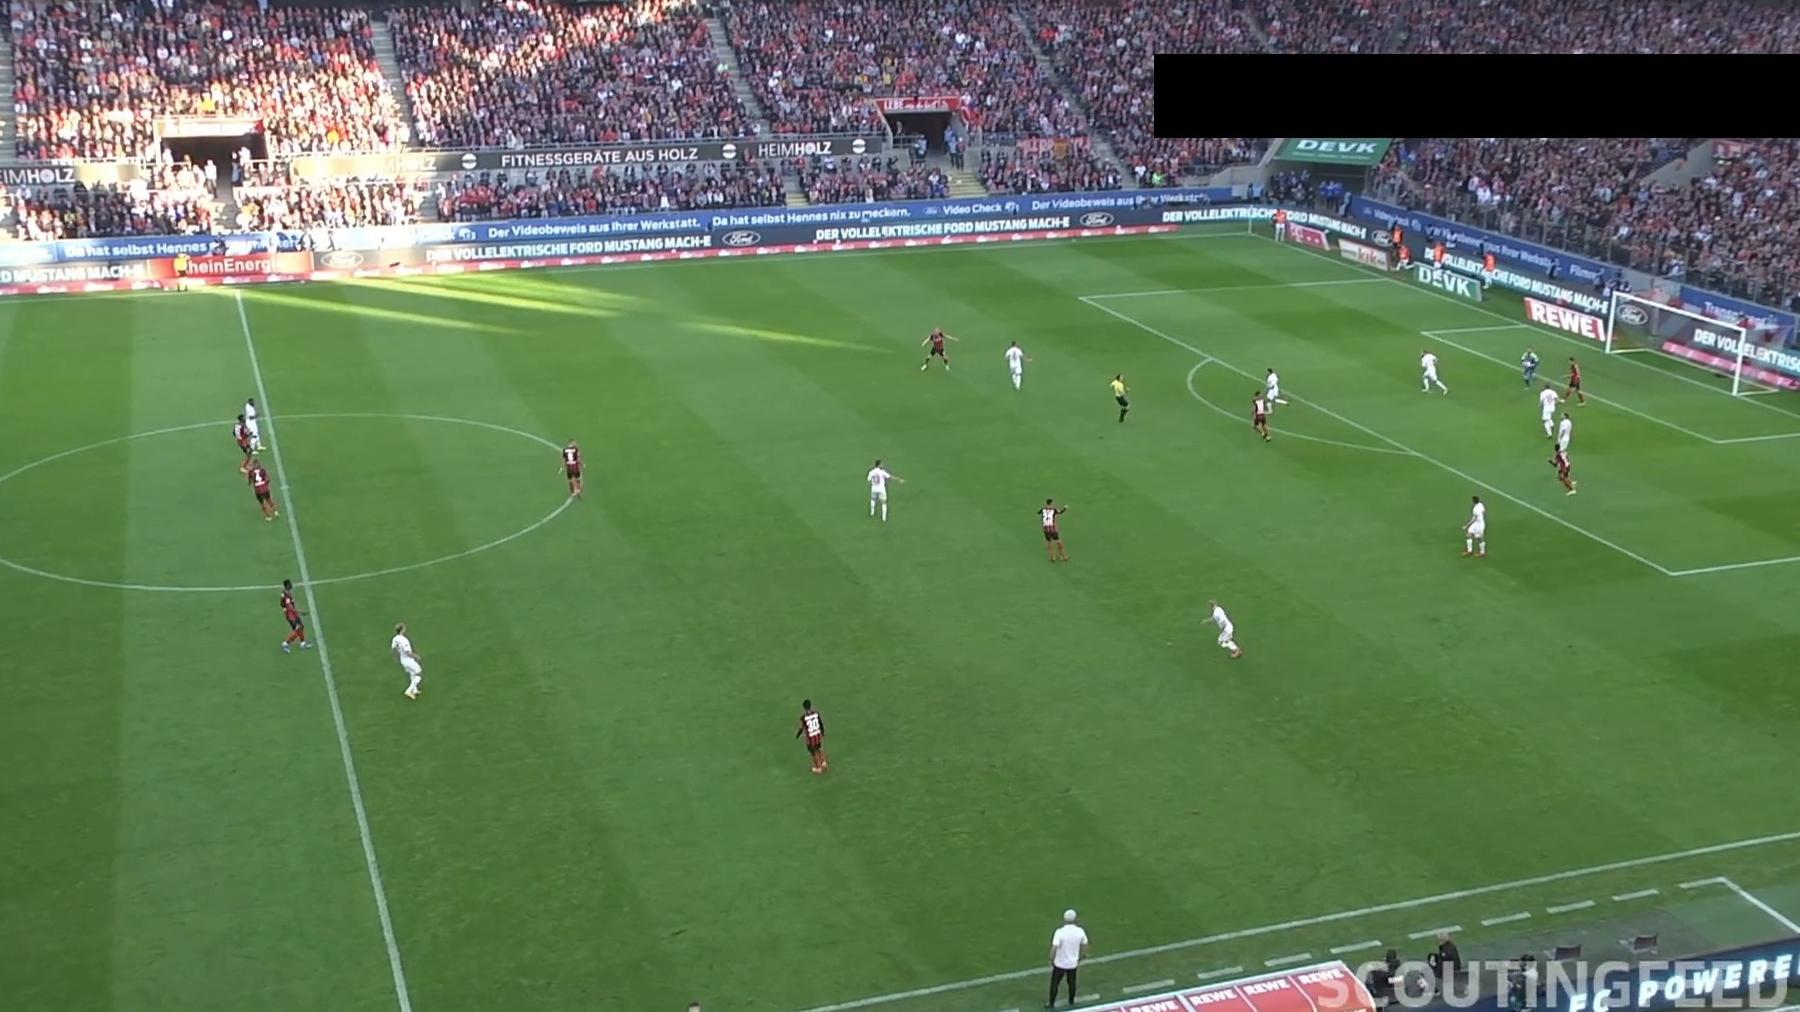ball: (1521, 360, 1532, 368)
